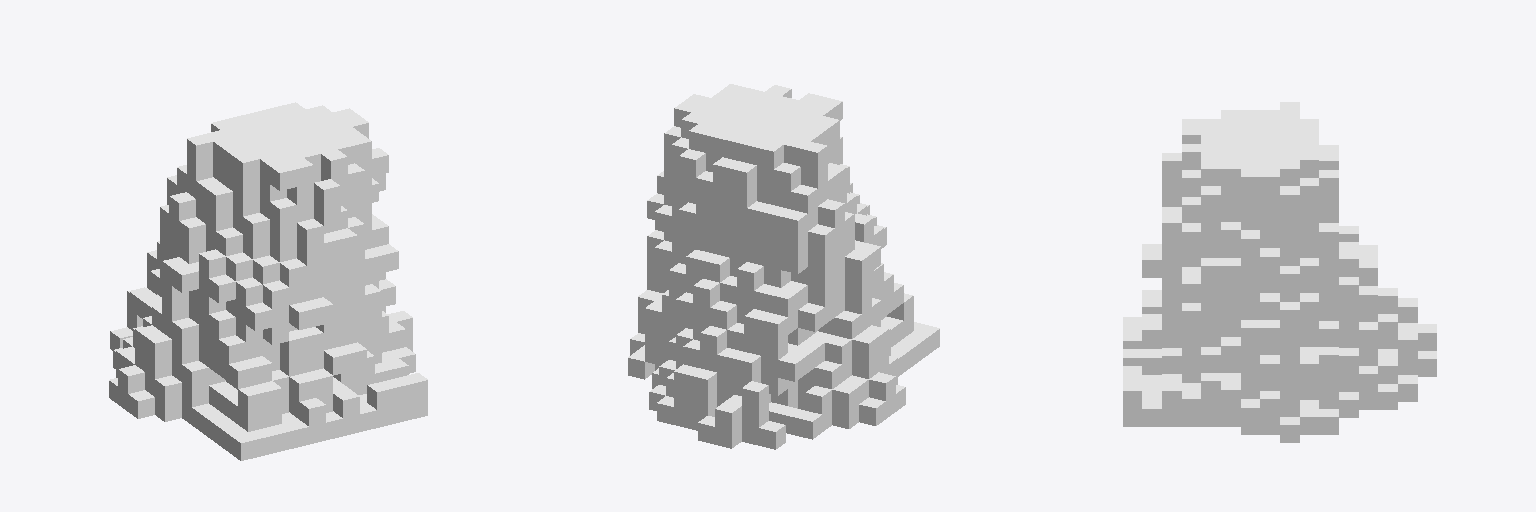
The model's file is Rock_Last_TwoThird.obj.
3 renders of one model, left to right at view 1: azimuth 30°, elevation 25°; view 2: azimuth 150°, elevation 25°; view 3: azimuth 270°, elevation 25°, orthographic.
Visible parts, largest first — view 1: object 1; view 2: object 1; view 3: object 1.
Part boxes in pixels (x1,y1,x2,y2): object 1: (109,102,427,460); object 1: (628,84,939,449); object 1: (1123,102,1436,442).
Bounding box in the file's own units: 1.5 × 1.4 × 1.6.